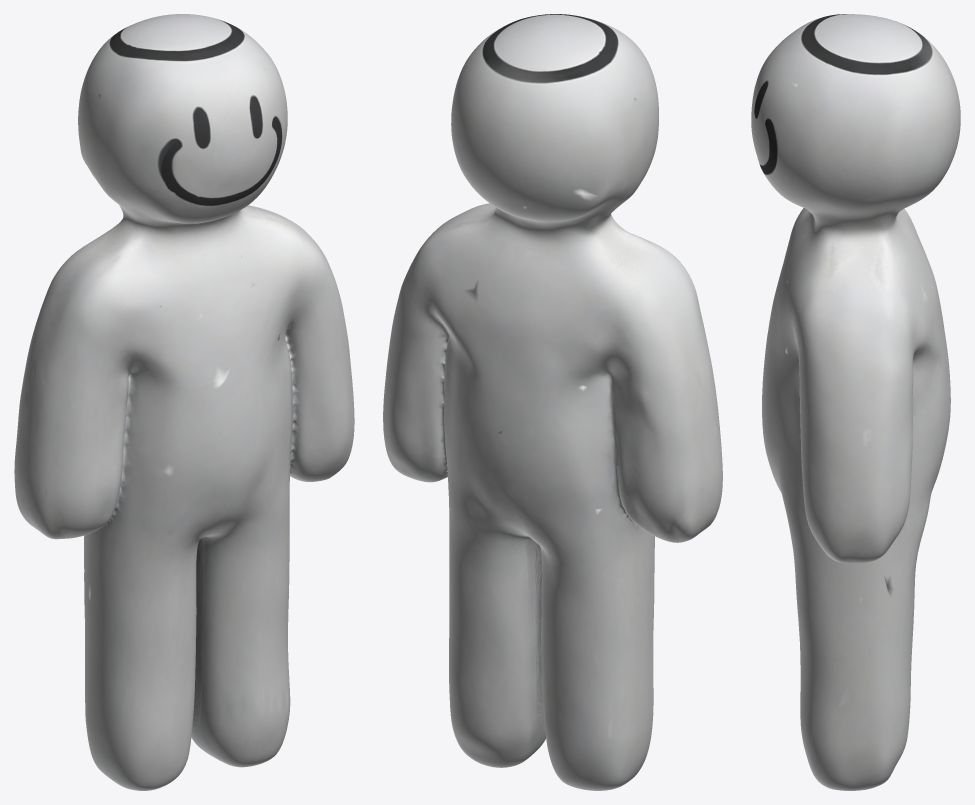
Rendered from tager.glb.
The picture shows the model from 3 angles, left to right: view 1: azimuth 30°, elevation 25°; view 2: azimuth 150°, elevation 25°; view 3: azimuth 270°, elevation 25°; orthographic projection. The views are drawn at different scales.
Bounding box in the file's own units: 0.9046 × 2 × 0.5216.
Materials: 1 (1 with a texture image).
